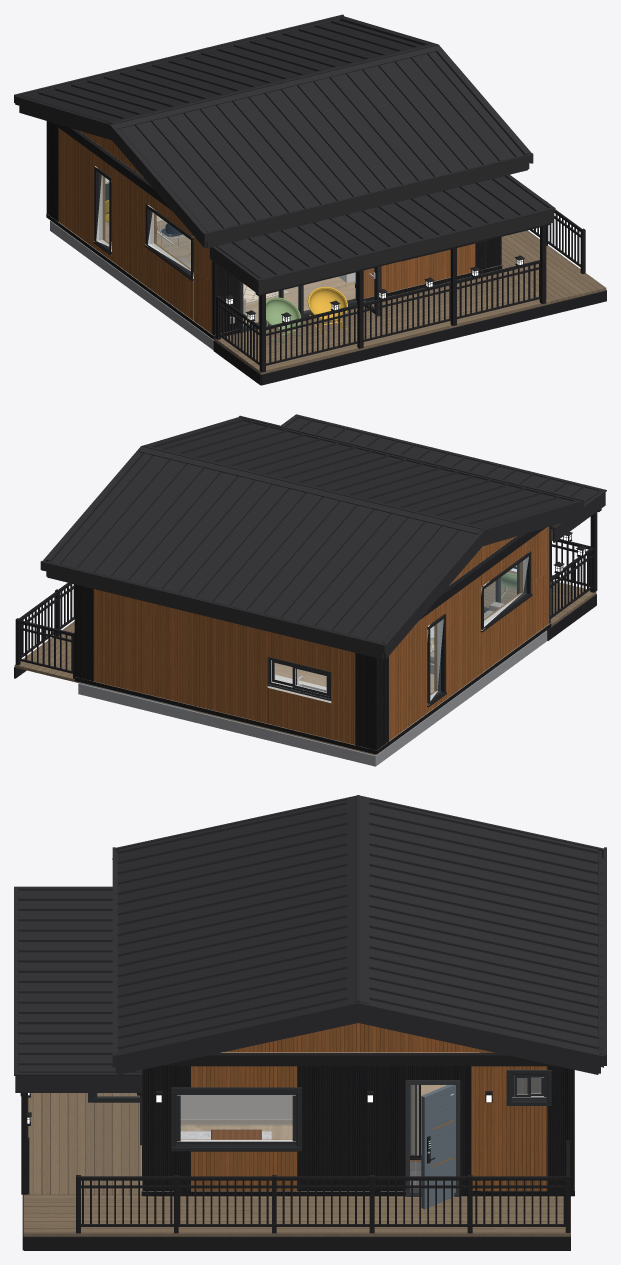
The model's file is seum-15.glb.
The picture shows the model from 3 angles, top to bottom: view 1: azimuth 30°, elevation 25°; view 2: azimuth 150°, elevation 25°; view 3: azimuth 270°, elevation 25°; orthographic projection. The views are drawn at different scales.
Visible parts, largest first — view 1: 지붕_Roof_DarkGray, 지붕_Metal_Flashing, Metal_Black, Ext_Wood, Deck_Porch, Ext_Black, Deck_Composite, Floor_Oak, Concrete_Slab, 지붕_Metal_Black, Material_14, Material_17 (+7 smaller); view 2: 지붕_Roof_DarkGray, Ext_Wood, 지붕_Metal_Flashing, Ext_Black, Metal_Black, Concrete_Slab, Material_14, Deck_Composite, 지붕_Metal_Black, Deck_Porch, I_FrameDarkGray, Floor_Oak (+6 smaller); view 3: 지붕_Roof_DarkGray, 지붕_Metal_Flashing, Ext_Black, Metal_Black, Deck_Composite, Ext_Wood, Deck_Porch, I_FrameDarkGray, 지붕_Metal_Black, 지붕_Ext_Wood, Material_28, Material_7 (+4 smaller).
Boxes of the visible parts, <box> form: 지붕_Roof_DarkGray: <box>22,18,550,278</box>; 지붕_Metal_Flashing: <box>14,14,555,294</box>; Metal_Black: <box>213,201,606,385</box>; Ext_Wood: <box>58,128,475,333</box>; Deck_Porch: <box>214,269,545,374</box>; Ext_Black: <box>46,121,502,339</box>; Deck_Composite: <box>500,230,606,305</box>; Floor_Oak: <box>105,220,355,339</box>; Concrete_Slab: <box>50,220,213,350</box>; 지붕_Metal_Black: <box>51,122,550,295</box>; Material_14: <box>150,211,190,272</box>; Material_17: <box>239,266,381,332</box>; 지붕_Roof_DarkGray: <box>49,415,601,642</box>; Ext_Wood: <box>93,527,549,744</box>; 지붕_Metal_Flashing: <box>40,414,606,659</box>; Ext_Black: <box>74,526,551,754</box>; Metal_Black: <box>14,512,597,678</box>; Concrete_Slab: <box>78,630,547,766</box>; Material_14: <box>484,559,526,623</box>; Deck_Composite: <box>14,621,78,682</box>; 지붕_Metal_Black: <box>420,508,601,619</box>; Deck_Porch: <box>484,570,596,626</box>; I_FrameDarkGray: <box>267,657,331,700</box>; Floor_Oak: <box>193,630,546,755</box>; 지붕_Roof_DarkGray: <box>17,801,602,1072</box>; 지붕_Metal_Flashing: <box>14,795,606,1092</box>; Ext_Black: <box>141,1066,574,1196</box>; Metal_Black: <box>21,1091,570,1250</box>; Deck_Composite: <box>23,1194,570,1236</box>; Ext_Wood: <box>191,1066,547,1191</box>; Deck_Porch: <box>27,1093,141,1194</box>; I_FrameDarkGray: <box>140,1070,551,1151</box>; 지붕_Metal_Black: <box>20,1053,556,1096</box>; 지붕_Ext_Wood: <box>222,1023,493,1052</box>; Material_28: <box>421,1085,455,1209</box>; Material_7: <box>180,1052,479,1119</box>.
Bounding box in the file's own units: 9.07 × 4.06 × 9.75.
148 materials, 37 textured.
